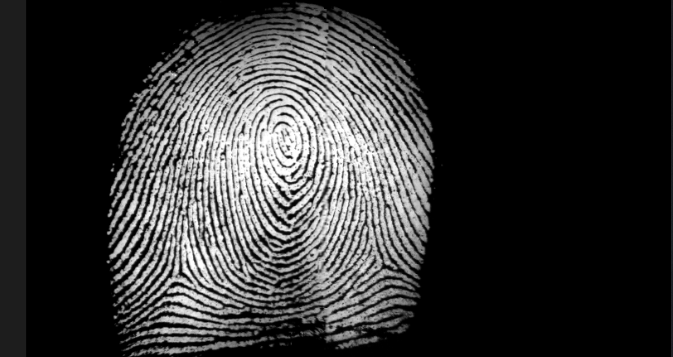nucelo: (261, 109, 309, 175)
verticilo: (156, 258, 196, 294), (365, 247, 397, 280)
